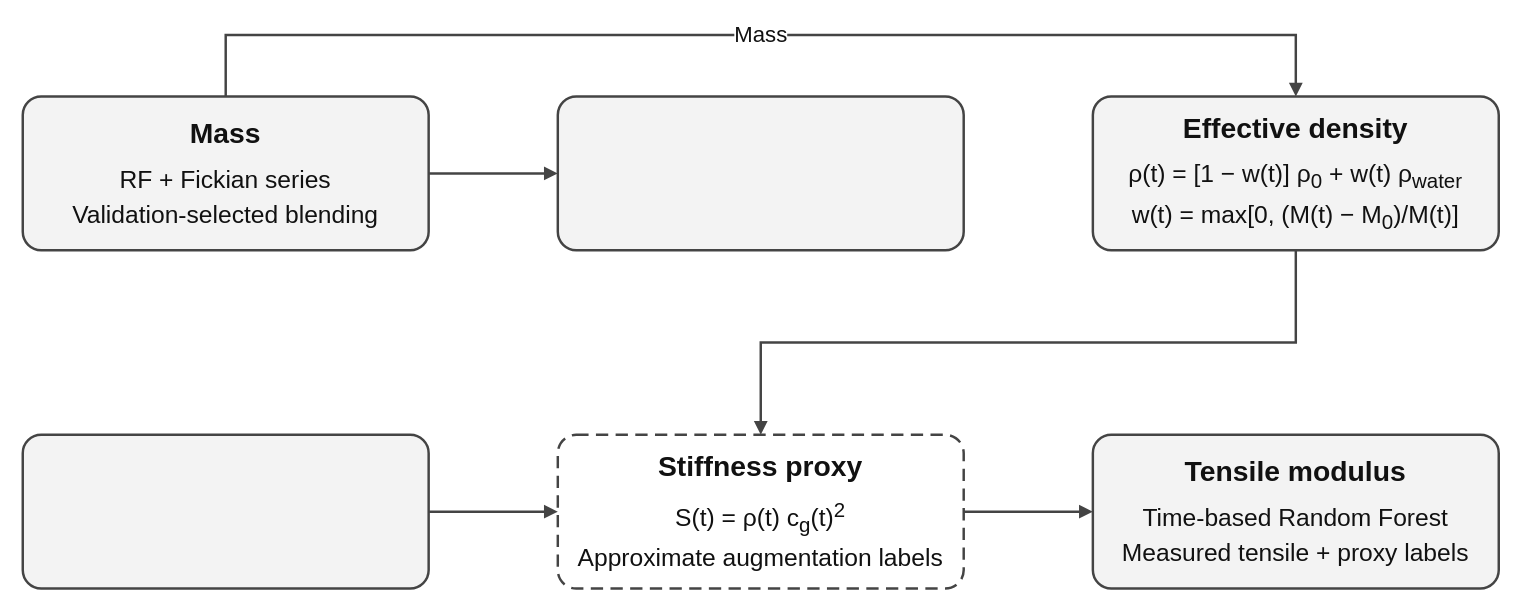
Image size: 1520x610. Some labels were removed from this diagram. Each missing label, with the box of its shape:
S0 group velocity Time-based Random Forest Supplied dispersion anchors: (21, 433, 429, 589)
Thickness Mass-based RF + swelling Validation-selected blending: (556, 95, 964, 251)
